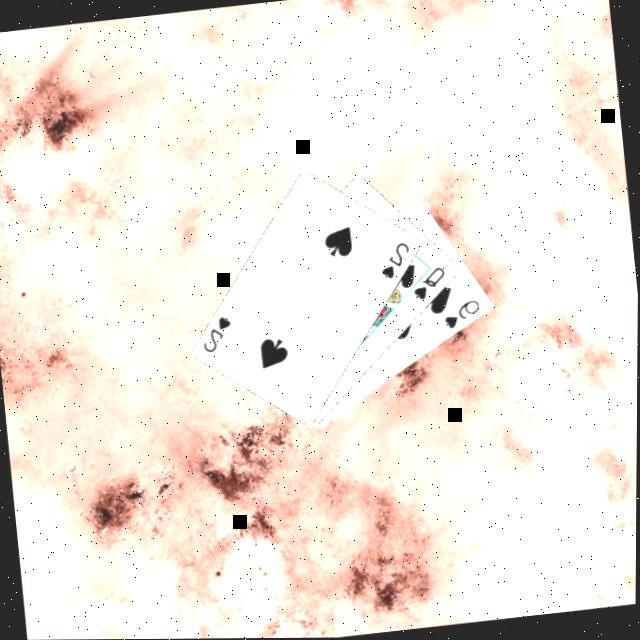2S: (376, 236, 418, 282), (198, 310, 238, 356)
9S: (441, 296, 487, 332)
QS: (410, 261, 453, 303)
